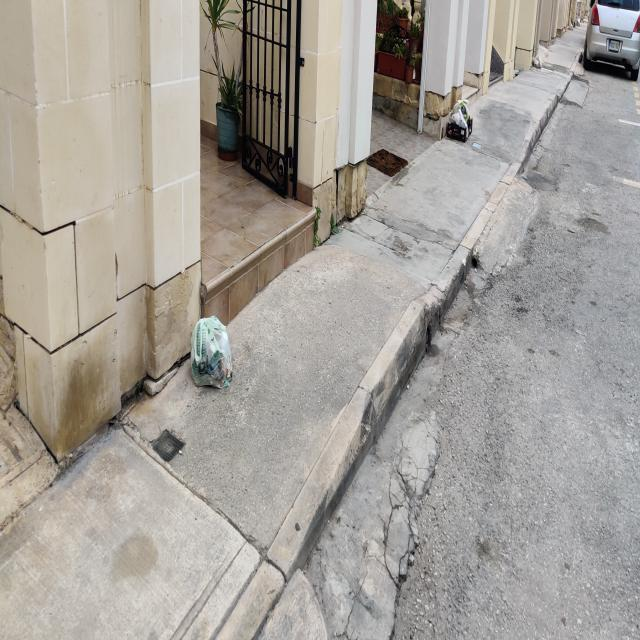Organic Waste -White Bags-: (188, 315, 234, 394), (447, 100, 471, 128), (532, 54, 542, 69), (577, 18, 580, 27)
Others Waste: (447, 119, 472, 142)
